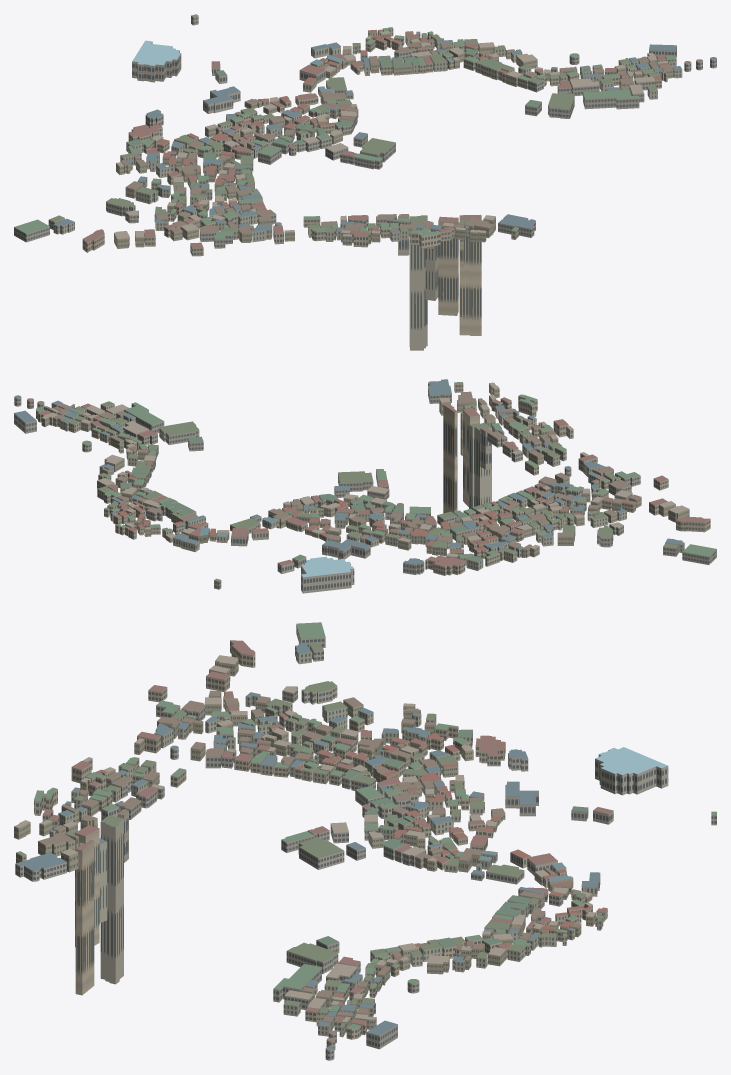
3 renders of one model, top to bottom at view 1: azimuth 30°, elevation 25°; view 2: azimuth 150°, elevation 25°; view 3: azimuth 270°, elevation 25°, orthographic. The views are drawn at different scales.
Parts seen in each view (by area): view 1: ctx-house-0, ctx-house-2, ctx-other, ctx-house-1, ctx-roof-5, ctx-roof-1, ctx-roof-2, ctx-roof-0, ctx-roof-4, ctx-roof-3, ctx-aerial-roof-red, ctx-aerial-roof-green (+1 smaller); view 2: ctx-house-0, ctx-house-2, ctx-other, ctx-house-1, ctx-roof-5, ctx-roof-1, ctx-roof-2, ctx-roof-0, ctx-roof-4, ctx-roof-3, ctx-aerial-roof-red, ctx-aerial-roof-green (+1 smaller); view 3: ctx-house-2, ctx-house-0, ctx-other, ctx-house-1, ctx-roof-5, ctx-roof-1, ctx-roof-2, ctx-roof-0, ctx-roof-4, ctx-roof-3, ctx-aerial-roof-red, ctx-aerial-roof-green (+1 smaller).
Part boxes in pixels (box(x1,y1,x2,y2)): ctx-house-0: box(82, 29, 676, 335); ctx-house-2: box(53, 28, 682, 350); ctx-other: box(14, 15, 716, 255); ctx-house-1: box(114, 30, 673, 248); ctx-roof-5: box(49, 27, 676, 232); ctx-roof-1: box(121, 29, 702, 233); ctx-roof-2: box(54, 31, 716, 232); ctx-roof-0: box(14, 14, 676, 239); ctx-roof-4: box(114, 31, 667, 239); ctx-roof-3: box(83, 43, 669, 247); ctx-aerial-roof-red: box(147, 29, 485, 184); ctx-aerial-roof-green: box(126, 48, 541, 187); ctx-house-0: box(36, 382, 710, 575); ctx-house-2: box(44, 399, 684, 570); ctx-other: box(14, 380, 716, 593); ctx-house-1: box(41, 383, 689, 560); ctx-roof-5: box(44, 401, 678, 553); ctx-roof-1: box(27, 391, 641, 552); ctx-roof-2: box(14, 379, 684, 564); ctx-roof-0: box(36, 382, 716, 581); ctx-roof-4: box(42, 382, 688, 556); ctx-roof-3: box(38, 397, 710, 566); ctx-aerial-roof-red: box(118, 476, 511, 551); ctx-aerial-roof-green: box(120, 436, 532, 562); ctx-house-2: box(49, 644, 607, 1037); ctx-house-0: box(16, 640, 603, 1039); ctx-other: box(15, 624, 716, 1060); ctx-house-1: box(14, 658, 602, 1032); ctx-roof-5: box(65, 643, 601, 1026); ctx-roof-1: box(38, 690, 601, 1041); ctx-roof-2: box(15, 643, 600, 1050); ctx-roof-0: box(16, 622, 716, 1029); ctx-roof-4: box(14, 655, 595, 1022); ctx-roof-3: box(43, 640, 613, 1024); ctx-aerial-roof-red: box(317, 733, 607, 944); ctx-aerial-roof-green: box(317, 729, 588, 947).
Bounding box in the file's own units: 766 × 157 × 541.
14 materials, 4 textured.
